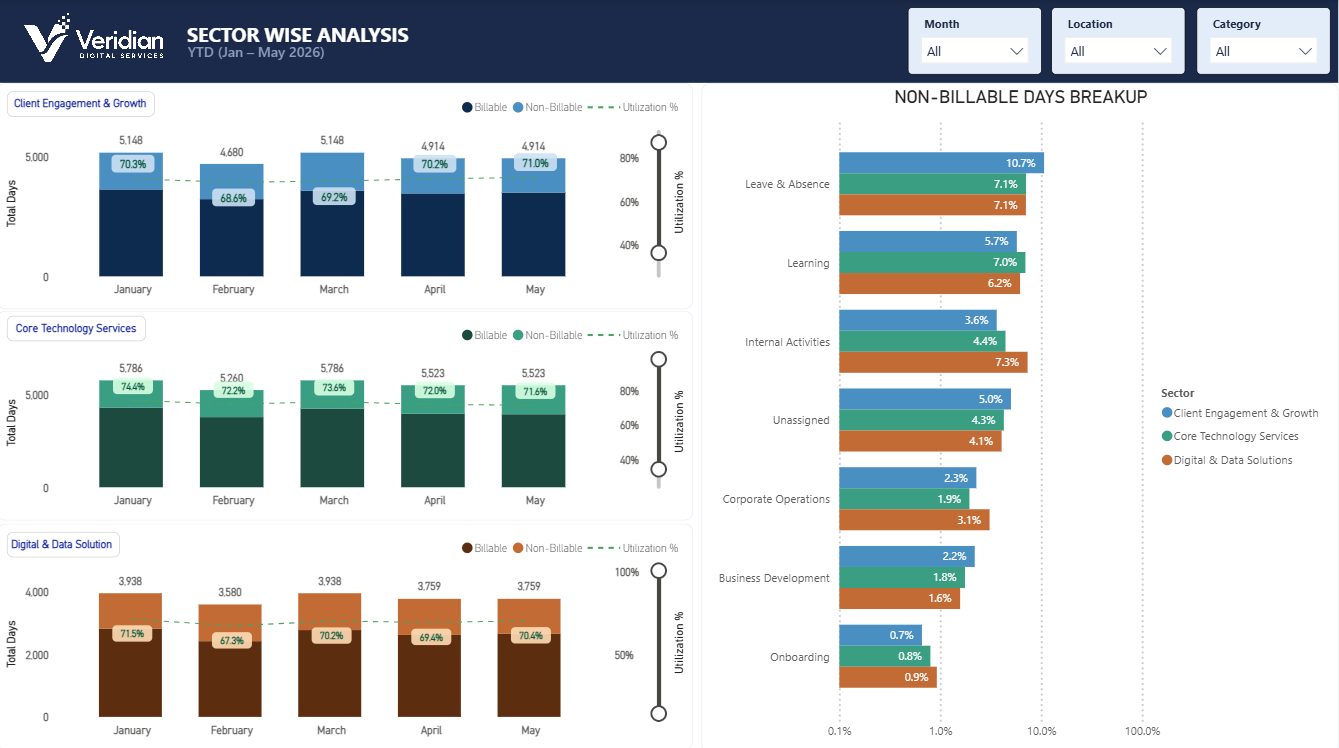

This screenshot's page, from the dashboard's own definition file:
{"tool":"powerbi","page":{"name":"Sector wise","canvas":[1280,720],"ordinal":3},"visuals":[{"type":"group","id":"g1","title":"Group 2","box":[0,0,1280,80],"z":0},{"type":"shape","box":[0,0,1280,80],"z":0,"group":"g1"},{"type":"textbox","box":[176,16,352,48],"z":1000},{"type":"cardVisual","fields":{"Data":["_Measures.YTD Label"]},"box":[170,18,192,64],"z":2000},{"type":"slicer","fields":{"Values":["Dim_Date.Month Year"]},"box":[869.4,8.6,128,64],"z":4000},{"type":"slicer","fields":{"Values":["Dim_Location.Reporting Location Group"]},"box":[1007,8.6,128,64],"z":5000},{"type":"slicer","fields":{"Values":["Fact_Timesheet.Employee Category 2"]},"box":[1144.6,8.3,128,64],"z":6000},{"type":"clusteredBarChart","title":"NON-BILLABLE DAYS BREAKUP","fields":{"Category":["Dim_Activity.Activity Category"],"Series":["Fact_Timesheet.Sector"],"Y":["_Measures.Category % of Sector Days"]},"box":[672,80,608,640],"z":7000},{"type":"lineStackedColumnComboChart","title":"UTILIZAITON TREND - MONTHLY","fields":{"Y2":["_Measures.Utilization %"],"Y":["_Measures.Total Days"],"Series":["Fact_Timesheet.Billability Group"],"Category":["Dim_Date.Date.Variation.Date Hierarchy.Month"]},"box":[0,80,664,216],"z":8000,"group":"g4"},{"type":"group","id":"g2","title":"Group 1","box":[0,298.2,664,200],"z":8000},{"type":"group","id":"g3","title":"Group 3","box":[0,500.2,664,216],"z":9000},{"type":"group","id":"g4","title":"Group 4","box":[0,80,664,216],"z":10000},{"type":"lineStackedColumnComboChart","title":"UTILIZAITON TREND - MONTHLY","fields":{"Y2":["_Measures.Utilization %"],"Y":["_Measures.Total Days"],"Series":["Fact_Timesheet.Billability Group"],"Category":["Dim_Date.Date.Variation.Date Hierarchy.Month"]},"box":[0,298.2,664,200],"z":10000,"group":"g2"},{"type":"image","box":[21,4,144,64],"z":11000},{"type":"lineStackedColumnComboChart","title":"UTILIZAITON TREND - MONTHLY","fields":{"Y2":["_Measures.Utilization %"],"Y":["_Measures.Total Days"],"Series":["Fact_Timesheet.Billability Group"],"Category":["Dim_Date.Date.Variation.Date Hierarchy.Month"]},"box":[0,500.2,664,216],"z":11000,"group":"g3"},{"type":"textbox","box":[10,88,141,24],"z":12000,"group":"g4"},{"type":"textbox","box":[10,303.2,133,24],"z":13000,"group":"g2"},{"type":"textbox","box":[10,508.2,108,24],"z":14000,"group":"g3"}]}

Visuals, with their boxes in screenshot pixels (x1, y1, x2, y2), scaled from the page's 1280x720 canvas onto the 1339x748 screenshot:
"Group 2" group: (left=0, top=0, right=1338, bottom=83)
shape: (left=0, top=0, right=1338, bottom=83)
textbox: (left=184, top=17, right=552, bottom=66)
cardVisual - _Measures.YTD Label: (left=178, top=19, right=379, bottom=85)
slicer - Dim_Date.Month Year: (left=909, top=9, right=1043, bottom=75)
slicer - Dim_Location.Reporting Location Group: (left=1053, top=9, right=1187, bottom=75)
slicer - Fact_Timesheet.Employee Category 2: (left=1197, top=9, right=1331, bottom=75)
"NON-BILLABLE DAYS BREAKUP" clusteredBarChart: (left=703, top=83, right=1338, bottom=747)
"UTILIZAITON TREND - MONTHLY" lineStackedColumnComboChart: (left=0, top=83, right=695, bottom=308)
"Group 1" group: (left=0, top=310, right=695, bottom=518)
"Group 3" group: (left=0, top=520, right=695, bottom=744)
"Group 4" group: (left=0, top=83, right=695, bottom=308)
"UTILIZAITON TREND - MONTHLY" lineStackedColumnComboChart: (left=0, top=310, right=695, bottom=518)
image: (left=22, top=4, right=173, bottom=71)
"UTILIZAITON TREND - MONTHLY" lineStackedColumnComboChart: (left=0, top=520, right=695, bottom=744)
textbox: (left=10, top=91, right=158, bottom=116)
textbox: (left=10, top=315, right=150, bottom=340)
textbox: (left=10, top=528, right=123, bottom=553)
